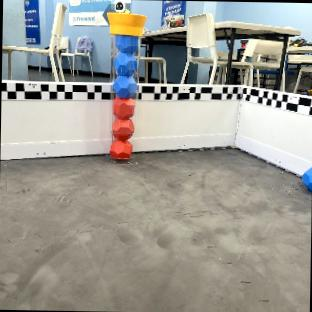V5_BLUE: (112, 34, 137, 96)
V5_RED: (114, 95, 134, 117), (113, 117, 133, 138), (111, 139, 131, 159)
